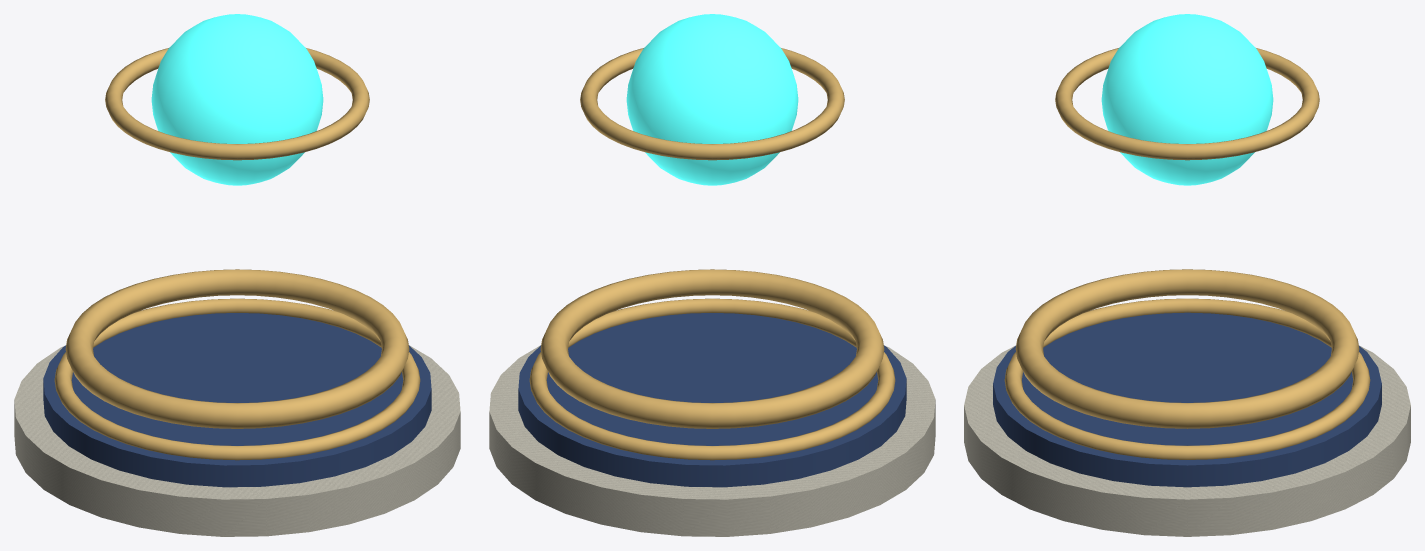
The model's file is arcane-academy-and-spell-trials-levitation-demonstrati-a211257b__28306.glb.
3 views of the same model, side by side, from view 1: azimuth 30°, elevation 25°; view 2: azimuth 150°, elevation 25°; view 3: azimuth 270°, elevation 25° (orthographic).
Parts seen in each view (by area): view 1: levitation-demonstration-stand; view 2: levitation-demonstration-stand; view 3: levitation-demonstration-stand.
Boxes of the visible parts, x1=… form: levitation-demonstration-stand: x1=14, y1=14, x2=460, y2=536; levitation-demonstration-stand: x1=489, y1=14, x2=935, y2=536; levitation-demonstration-stand: x1=964, y1=14, x2=1410, y2=536.
Bounding box in the file's own units: 1.3 × 1.35 × 1.3.
Materials: 4 (1 with a texture image).
